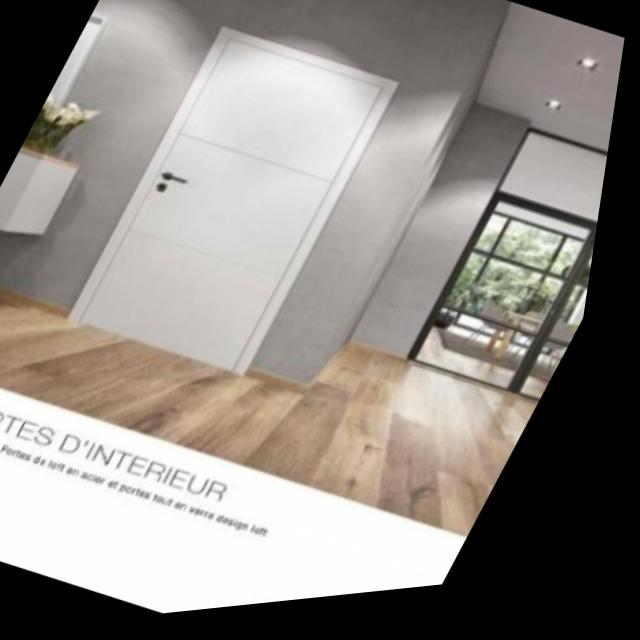door_handle: (160, 168, 203, 198)
